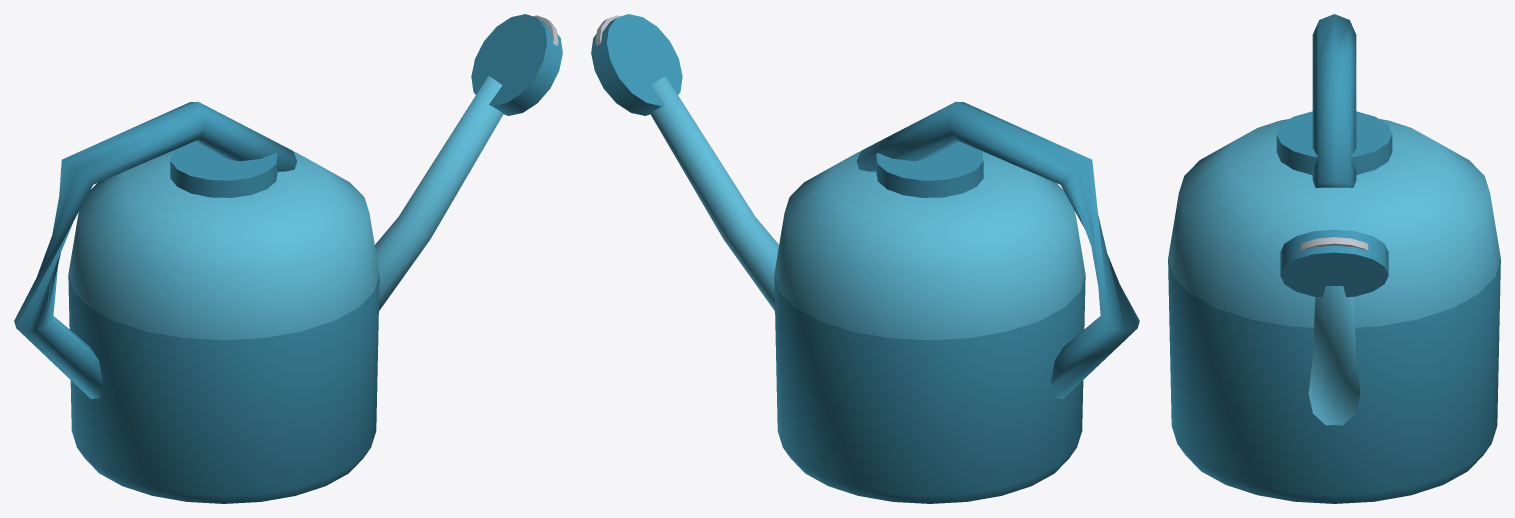
Rendered from regador.glb.
3 renders of one model, left to right at view 1: azimuth 30°, elevation 25°; view 2: azimuth 150°, elevation 25°; view 3: azimuth 270°, elevation 25°, orthographic. The views are drawn at different scales.
Visible parts, largest first — view 1: regador; view 2: regador; view 3: regador.
Part boxes in pixels (<box>): regador: <box>14,14,562,503</box>; regador: <box>591,14,1139,503</box>; regador: <box>1168,14,1500,503</box>.
Size of the model in its own units: 0.3665 by 0.2275 by 0.184.
